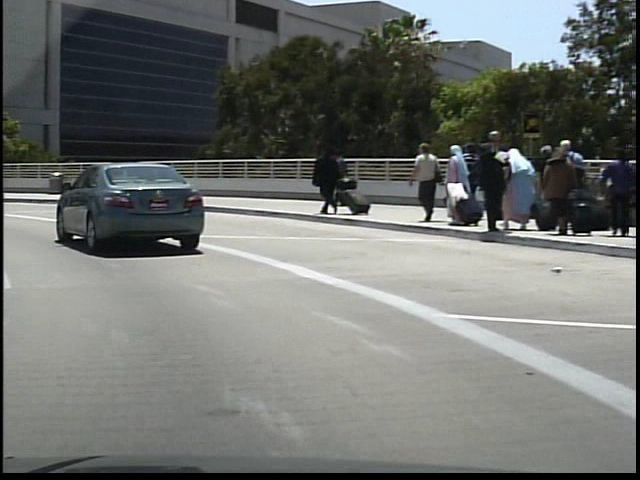person: (471, 124, 510, 235), (405, 140, 441, 222), (306, 141, 341, 215), (329, 151, 350, 208)
